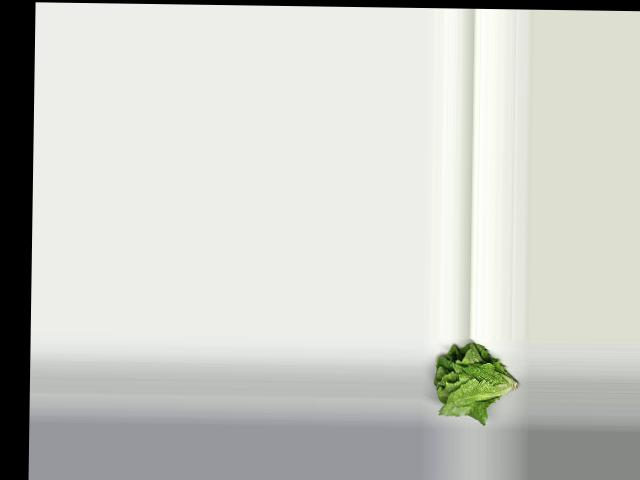lettuce: (428, 342, 523, 417)
